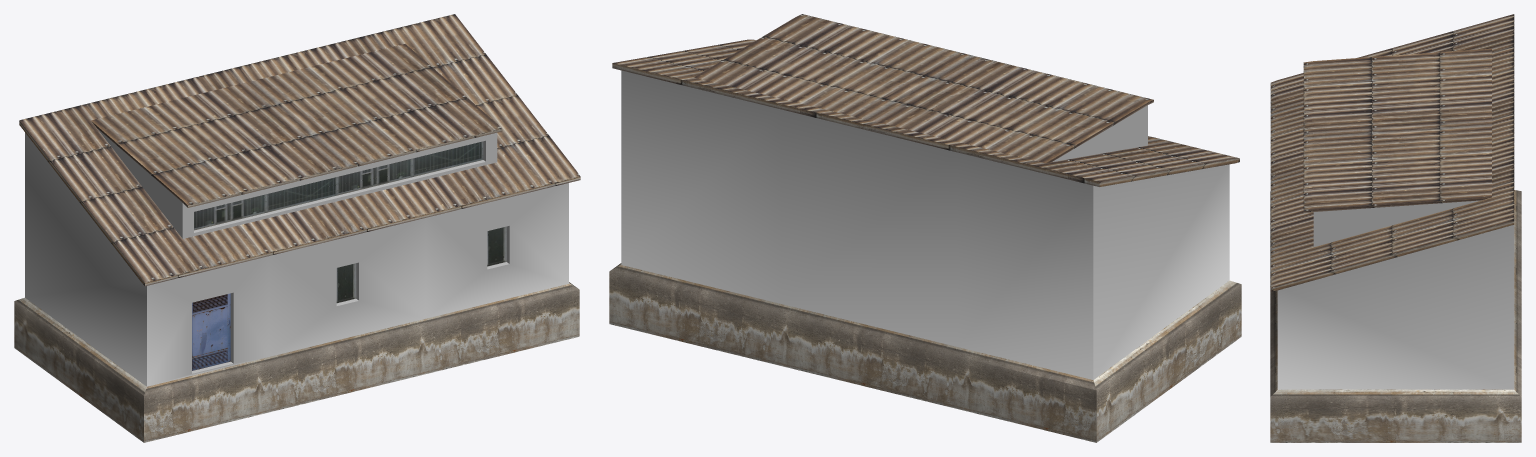
File: house_entrance02_lod2.fbx
The picture shows the model from 3 angles, left to right: view 1: azimuth 30°, elevation 25°; view 2: azimuth 150°, elevation 25°; view 3: azimuth 270°, elevation 25°; orthographic projection. The views are drawn at different scales.
Parts seen in each view (by area): view 1: Mesh Object; view 2: Mesh Object; view 3: Mesh Object.
Boxes of the visible parts, x1,y1,x2,y2 form: Mesh Object: (14, 14, 580, 442); Mesh Object: (609, 14, 1241, 442); Mesh Object: (1270, 14, 1521, 442).
Bounding box in the file's own units: 12.64 × 6.37 × 6.5.
